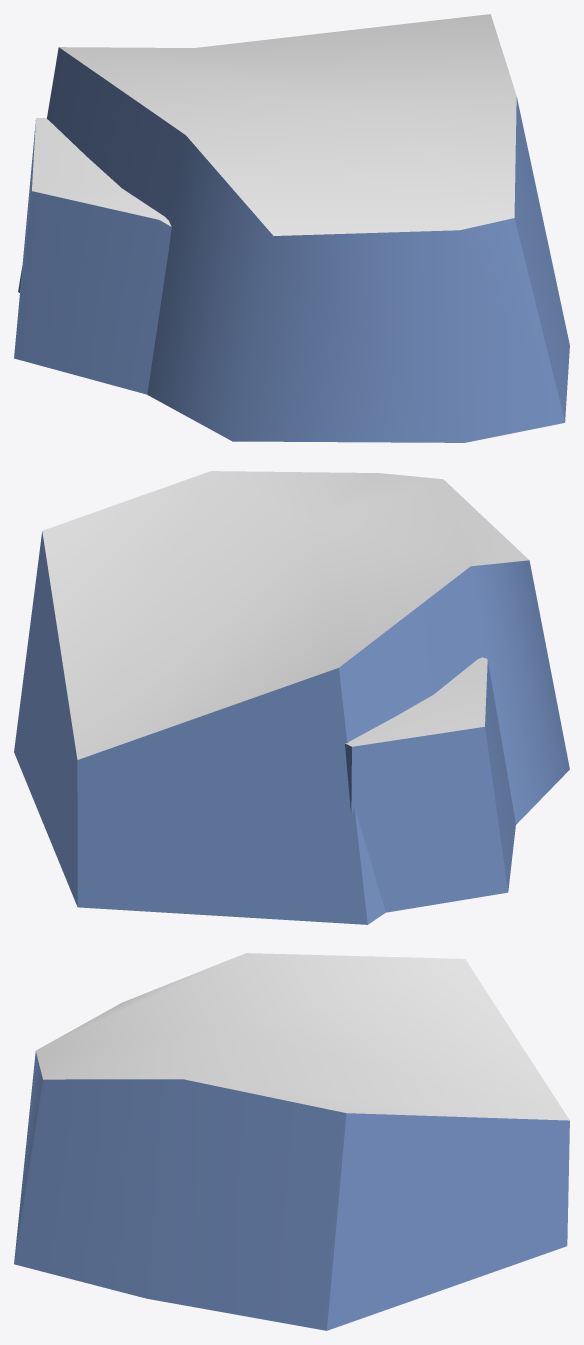
Rendered from SM_Obstacle_03.fbx.
The picture shows the model from 3 angles, top to bottom: view 1: azimuth 30°, elevation 25°; view 2: azimuth 150°, elevation 25°; view 3: azimuth 270°, elevation 25°; orthographic projection. The views are drawn at different scales.
Visible parts, largest first — view 1: Cube.031; view 2: Cube.031; view 3: Cube.031.
Part boxes in pixels (x1,y1,x2,y2): Cube.031: (14, 14, 569, 442); Cube.031: (14, 471, 569, 924); Cube.031: (14, 953, 569, 1330).
Bounding box in the file's own units: 5.4 × 2.51 × 6.02.
